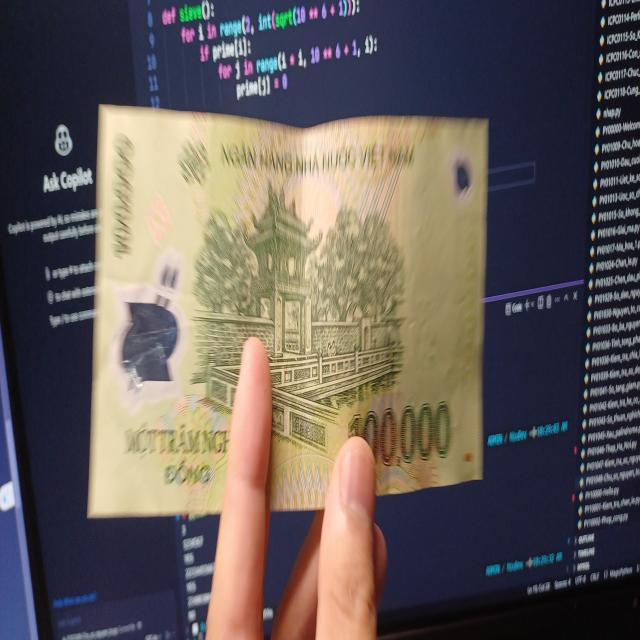100 000 VND: (82, 93, 491, 529)
